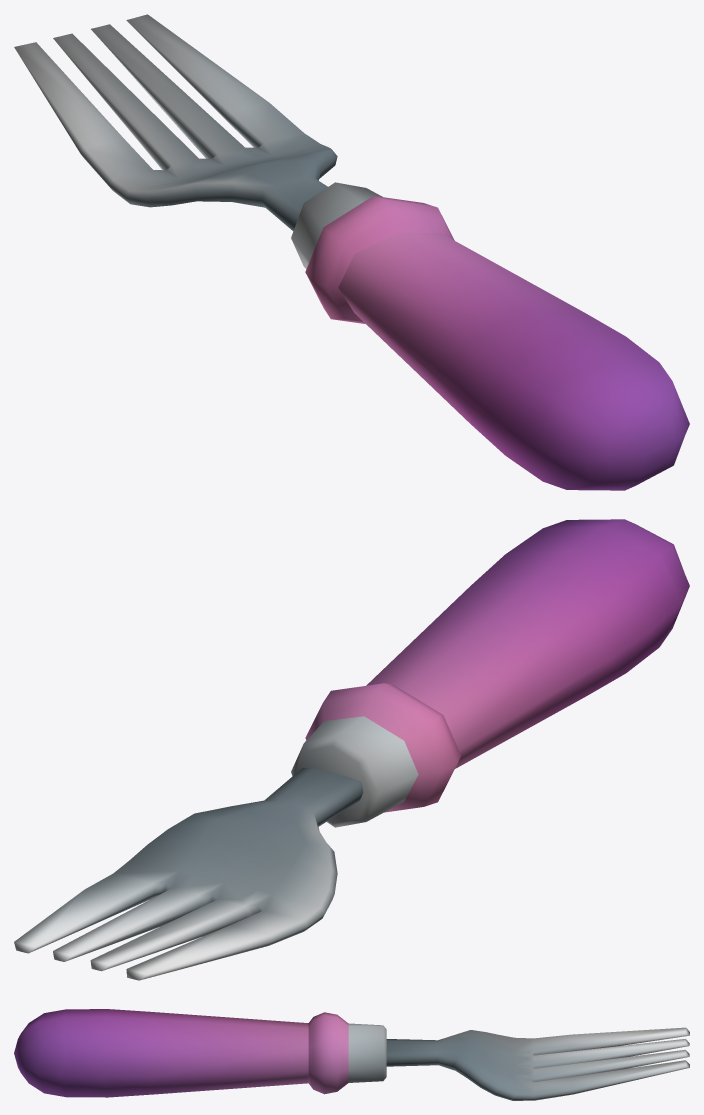
The model's file is fork_001.glb.
3 renders of one model, top to bottom at view 1: azimuth 30°, elevation 25°; view 2: azimuth 150°, elevation 25°; view 3: azimuth 270°, elevation 25°, orthographic. The views are drawn at different scales.
Parts seen in each view (by area): view 1: fork_001; view 2: fork_001; view 3: fork_001.
Boxes of the visible parts, left/top/right/bottom form: fork_001: left=14, top=14, right=689, bottom=490; fork_001: left=14, top=519, right=689, bottom=980; fork_001: left=14, top=1009, right=689, bottom=1100.
Size of the model in its own units: 0.0399 by 0.0243 by 0.1972.
1 material, 1 textured.
